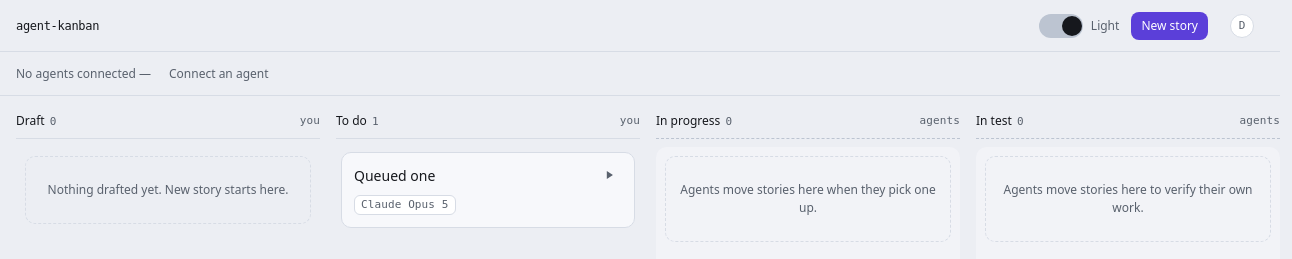
BoardScreen — play and stop › queues a story for pickup when Start is pressed
Expected: the button "Queued one" is shown, [354,165,622,187]
Click the button named "Start Queued one" at (609, 175), box [592,161,626,189]
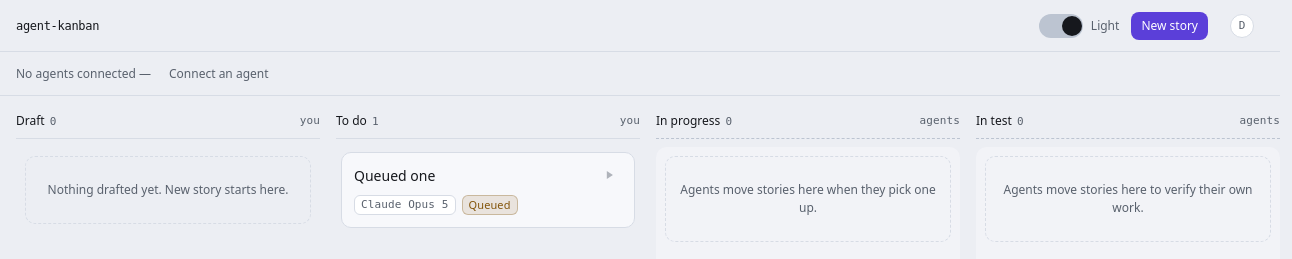
Expected: the text "Queued" is shown, [462,195,518,215]
